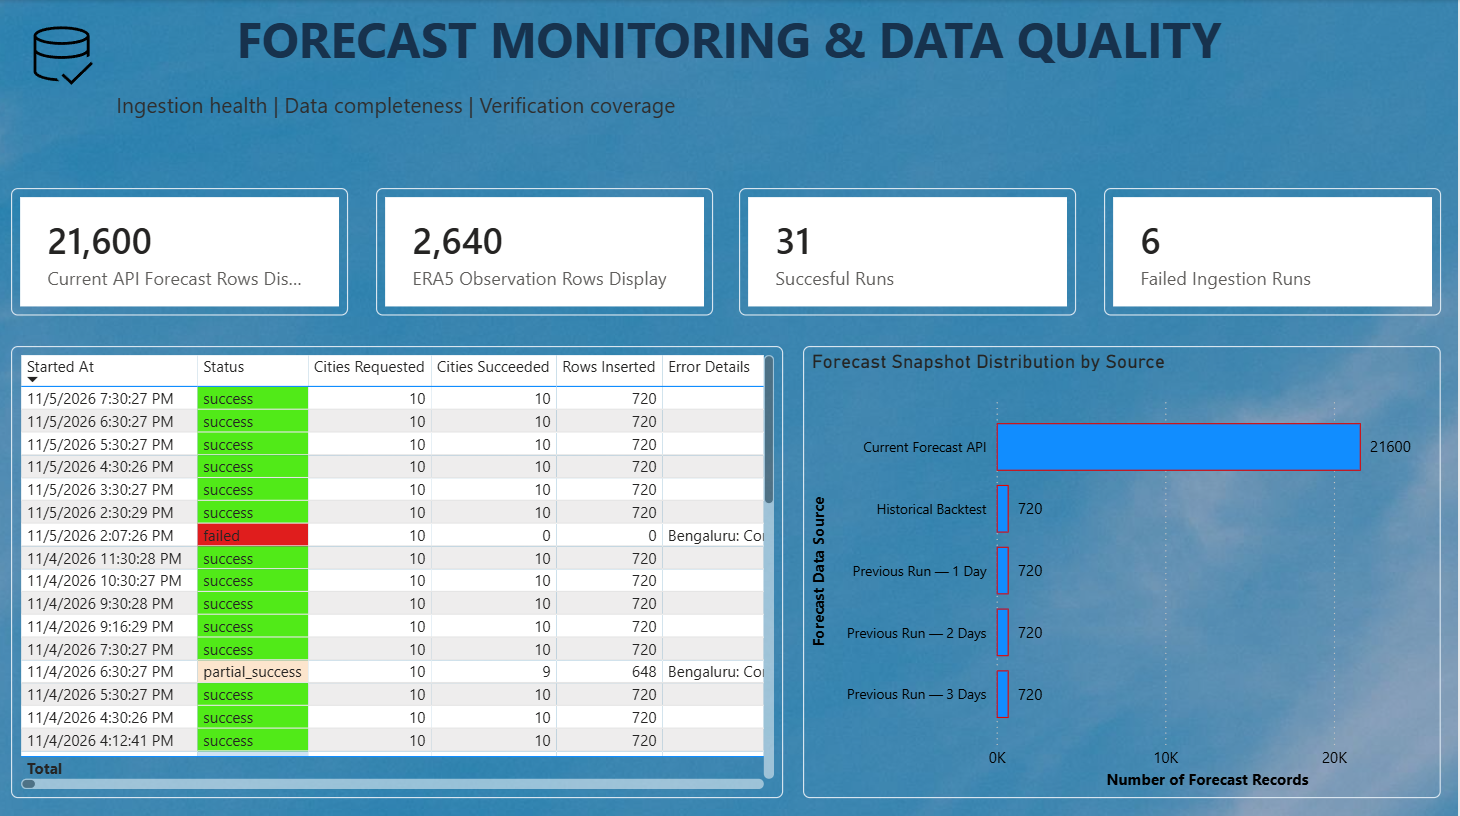

What the dashboard file says about the page in this screenshot:
{"tool":"powerbi","page":{"name":"FORECAST MONITORING & DATA QUALITY","canvas":[1280,720],"ordinal":2},"visuals":[{"type":"textbox","box":[0,0,1280,131.3],"z":0},{"type":"cardVisual","fields":{"Data":["Rolling Forecast Accuracy.Current API Forecast Rows Display"]},"box":[10,165,296,112],"z":1000},{"type":"cardVisual","fields":{"Data":["public ingestion_run.Failed Ingestion Runs"]},"box":[969,165,296,112],"z":2000},{"type":"cardVisual","fields":{"Data":["public ingestion_run.Successful Ingestion Runs"]},"box":[649,165,296,112],"z":3000},{"type":"cardVisual","fields":{"Data":["Rolling Forecast Accuracy.ERA5 Observation Rows Display"]},"box":[330,165,296,112],"z":4000},{"type":"tableEx","fields":{"Values":["public ingestion_run.started_at","public ingestion_run.status","public ingestion_run.cities_requested","public ingestion_run.cities_succeeded","public ingestion_run.forecast_rows_inserted","public ingestion_run.error_message"]},"box":[9.7,303.8,677.9,396.9],"z":5000},{"type":"clusteredBarChart","title":"Forecast Snapshot Distribution by Source","fields":{"Y":["CountNonNull(public fact_forecast_snapshot.forecast_snapshot_id)"],"Category":["public fact_forecast_snapshot.Source Display"]},"box":[705.1,303.8,560.2,396.9],"z":6000},{"type":"image","box":[24.3,8.8,59.3,76.8],"z":7000}]}

Visuals, with their boxes in screenshot pixels (x1, y1, x2, y2), scaled from the page's 1280x720 canvas onto the 1460x816 screenshot:
textbox: detection(0, 0, 1459, 149)
cardVisual - Rolling Forecast Accuracy.Current API Forecast Rows Display: detection(11, 187, 349, 314)
cardVisual - public ingestion_run.Failed Ingestion Runs: detection(1105, 187, 1443, 314)
cardVisual - public ingestion_run.Successful Ingestion Runs: detection(740, 187, 1078, 314)
cardVisual - Rolling Forecast Accuracy.ERA5 Observation Rows Display: detection(376, 187, 714, 314)
tableEx - public ingestion_run.started_at x public ingestion_run.status: detection(11, 344, 784, 794)
"Forecast Snapshot Distribution by Source" clusteredBarChart: detection(804, 344, 1443, 794)
image: detection(28, 10, 95, 97)
